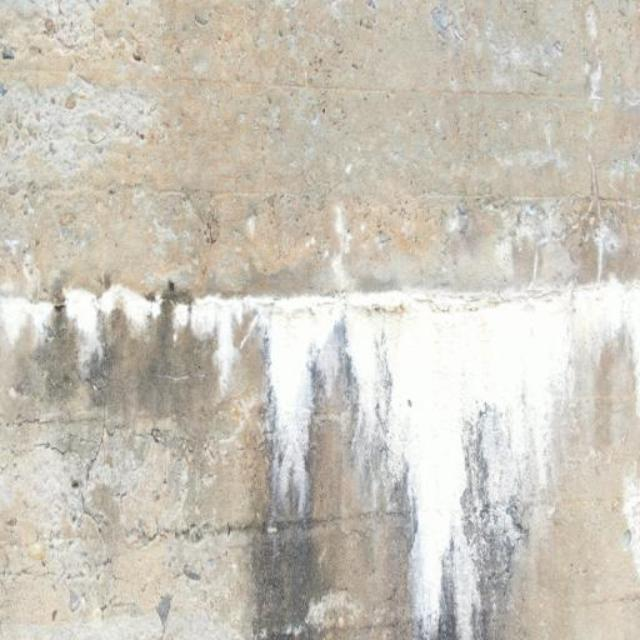D01: (173, 282, 639, 639), (66, 286, 161, 369), (2, 298, 57, 343)
